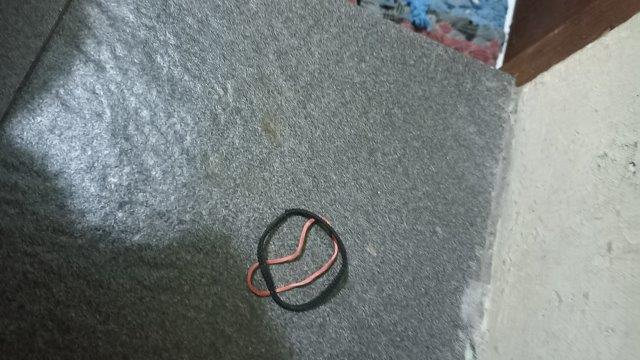karet: (247, 208, 348, 312)
